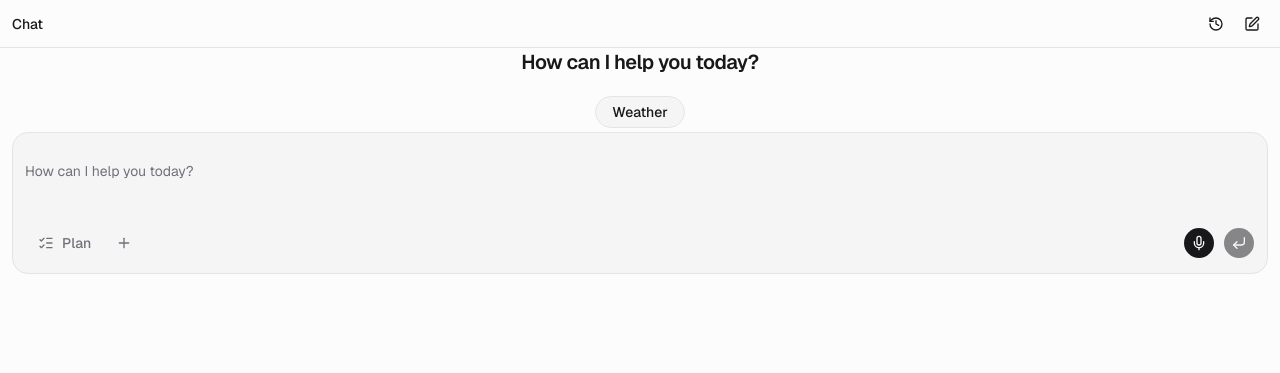
ChatPanel — the parts that keep a run moving › drops an approval card the server no longer holds and says why
Click the button "Weather": (640, 112) [595,96,685,128]
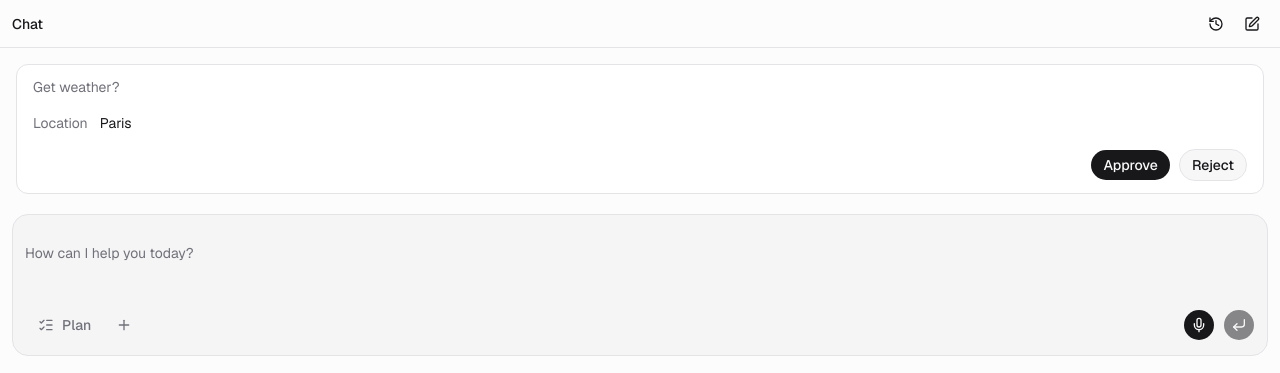
Check: the text "Get weather?" is shown, box [33,78,120,96]
Click the button "Reject": (1213, 165) [1179,149,1247,181]
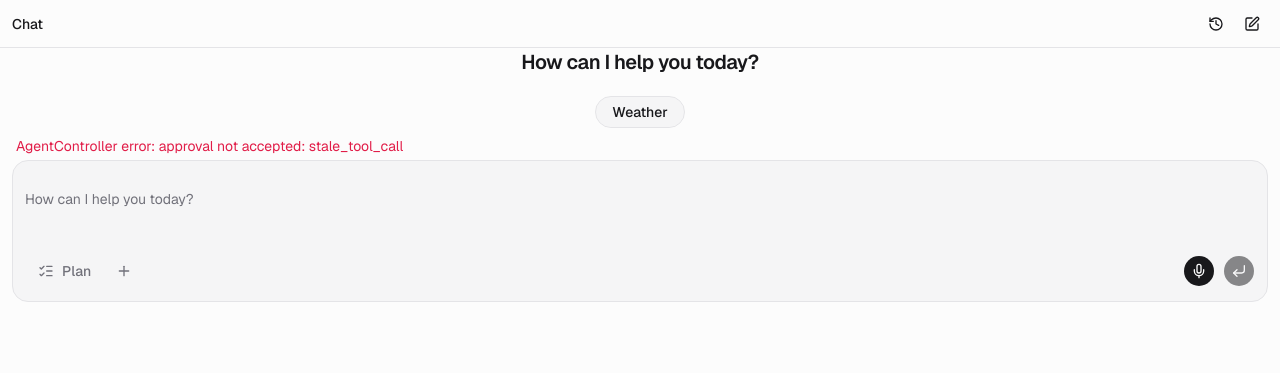
Check: the text "Get weather?" is gone
Check: the text "AgentController error: approval not accepted: stale_tool_call" is shown, box [16,137,403,155]
